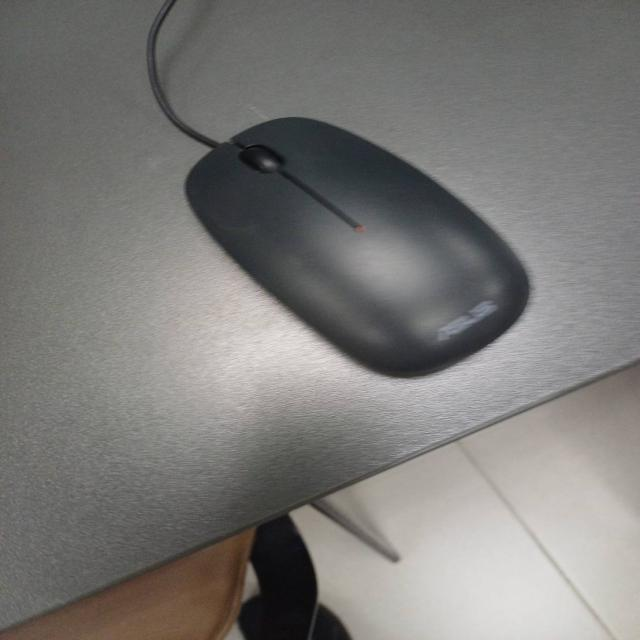mouse: (168, 111, 549, 397)
